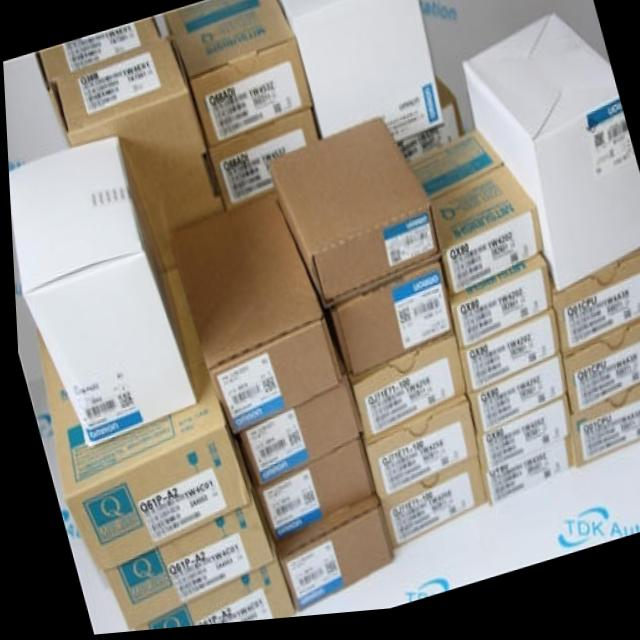box: (33, 271, 246, 578), (7, 140, 193, 445), (461, 22, 640, 300), (47, 38, 223, 277), (168, 202, 338, 441), (264, 122, 438, 320), (99, 440, 269, 632), (277, 0, 442, 147), (163, 0, 314, 155), (404, 136, 542, 305), (229, 354, 358, 499), (321, 264, 450, 382), (247, 445, 374, 564), (269, 507, 389, 615), (342, 342, 463, 447), (206, 109, 321, 219), (359, 402, 474, 507), (126, 565, 290, 633), (444, 262, 549, 359), (373, 463, 481, 557), (546, 258, 640, 364), (32, 18, 163, 94), (454, 322, 557, 402), (463, 363, 564, 442), (471, 403, 570, 481), (557, 330, 640, 423), (477, 446, 576, 515), (567, 393, 640, 475)
